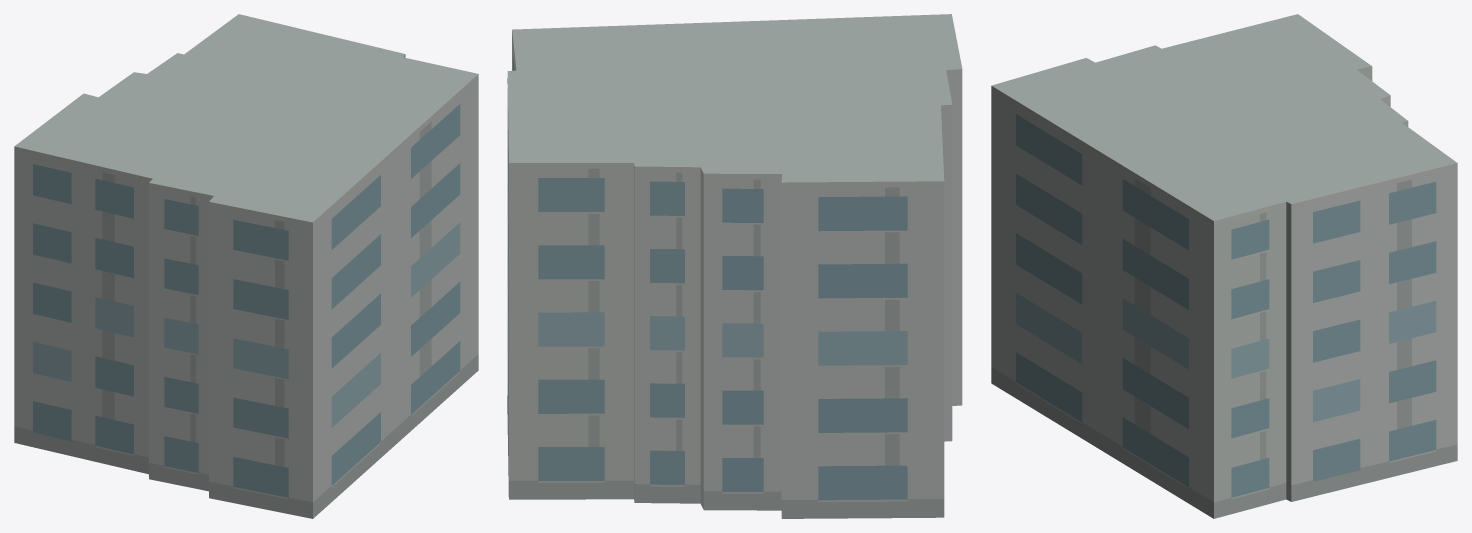
File: survey-upis-32574409.glb
3 renders of one model, left to right at view 1: azimuth 30°, elevation 25°; view 2: azimuth 150°, elevation 25°; view 3: azimuth 270°, elevation 25°, orthographic. The views are drawn at different scales.
Visible parts, largest first — view 1: survey-upis-32574409.tmp; view 2: survey-upis-32574409.tmp; view 3: survey-upis-32574409.tmp.
Boxes of the visible parts, x1,y1,x2,y2 form: survey-upis-32574409.tmp: [14, 14, 478, 518]; survey-upis-32574409.tmp: [507, 14, 962, 518]; survey-upis-32574409.tmp: [991, 14, 1457, 518].
Bounding box in the file's own units: 21.05 × 14.1 × 20.02.
